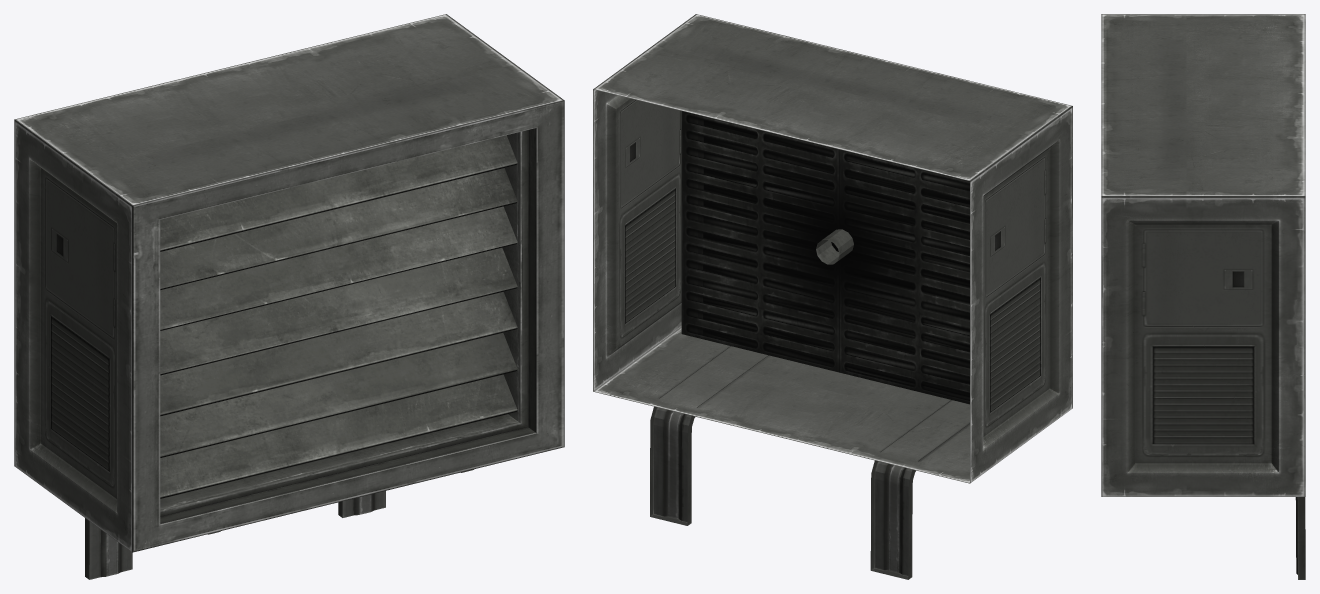
File: Wall_Air_Condition_Unit_Mesh.FBX
The picture shows the model from 3 angles, left to right: view 1: azimuth 30°, elevation 25°; view 2: azimuth 150°, elevation 25°; view 3: azimuth 270°, elevation 25°; orthographic projection. The views are drawn at different scales.
Parts seen in each view (by area): view 1: AirCon_1_Main, grid_D, grid_F, grid_E, grid_C, grid_G, grid_B, grid_A; view 2: AirCon_1_Main, AirCon_1_Fan; view 3: AirCon_1_Main.
Part boxes in pixels (left/top/right/bottom): AirCon_1_Main: left=14, top=14, right=564, bottom=579; grid_D: left=160, top=248, right=517, bottom=375; grid_F: left=160, top=333, right=517, bottom=457; grid_E: left=160, top=292, right=517, bottom=416; grid_C: left=160, top=206, right=517, bottom=330; grid_G: left=160, top=374, right=517, bottom=498; grid_B: left=160, top=168, right=517, bottom=289; grid_A: left=160, top=135, right=517, bottom=251; AirCon_1_Main: left=593, top=14, right=1072, bottom=579; AirCon_1_Fan: left=816, top=229, right=853, bottom=264; AirCon_1_Main: left=1101, top=14, right=1305, bottom=579.
Size of the model in its own units: 52.33 by 24.75 by 54.91.
